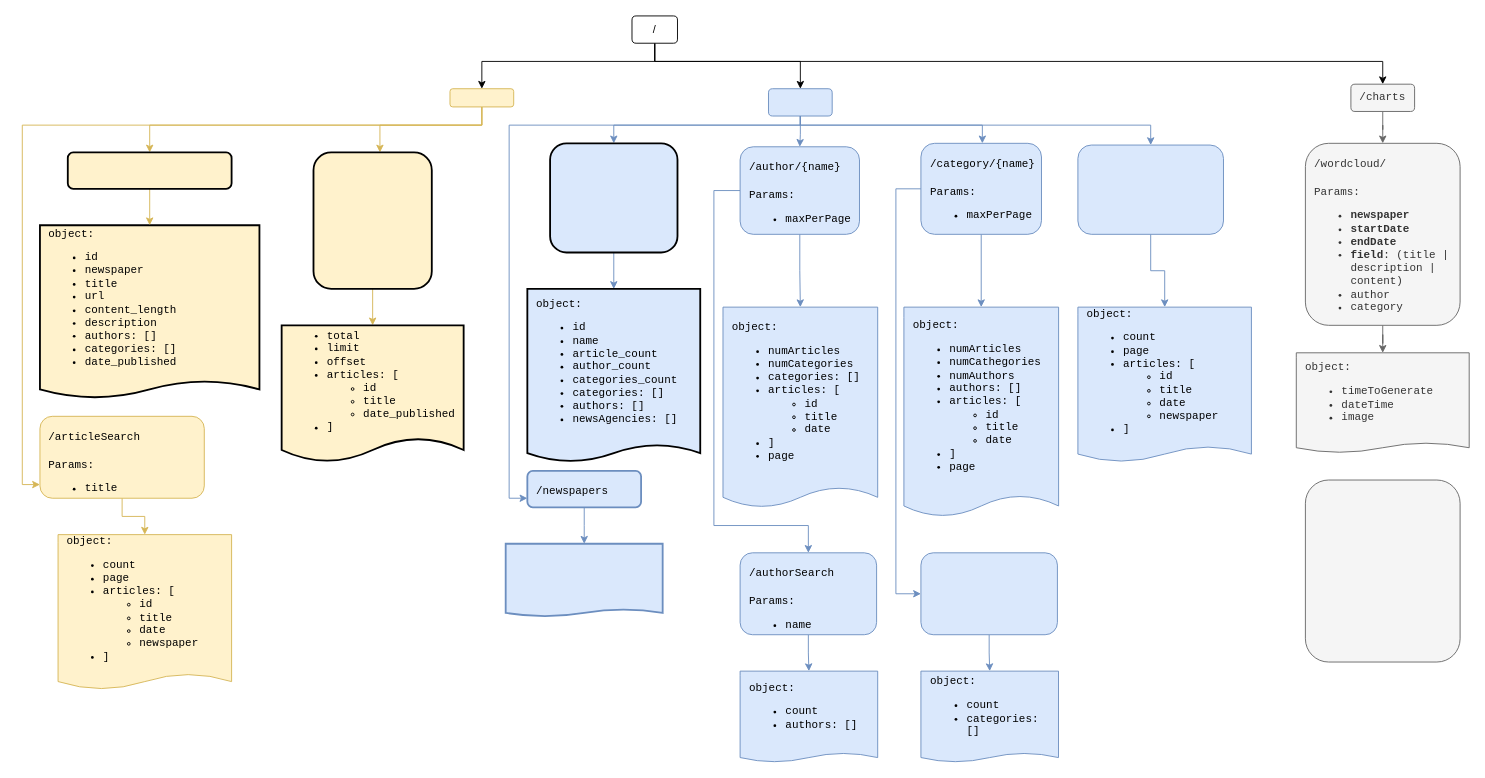
The diagram is 1485 pixels wide and 778 high, and some of its shapes have lost their labels. Each missing label, with the centre of its shape:
/.../ Params:: the point at 1382,570
/article/{id}: the point at 149,170
/articles Params: newspaper startDate endDate limit offset: the point at 372,220
/categorySearch Params: name: the point at 988,593
/info: the point at 800,102
/newspaper Params: name startDate endDate: the point at 613,197
/personSearch/{name} Params: name: the point at 1150,189
/raw: the point at 481,97
object: count newspapers: []: the point at 583,579
